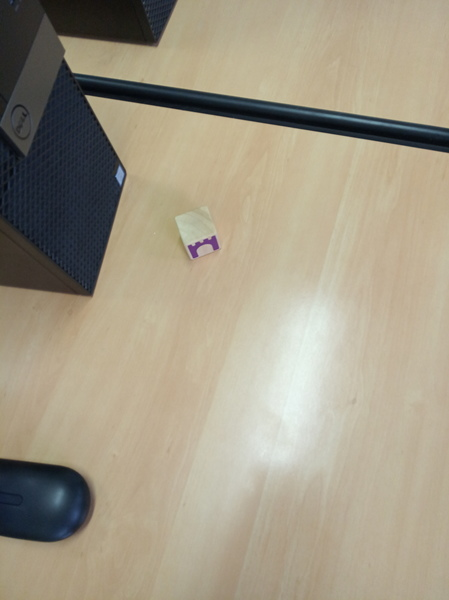violet: (177, 206, 222, 257)
